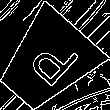P_SW: (16, 31, 78, 93)
